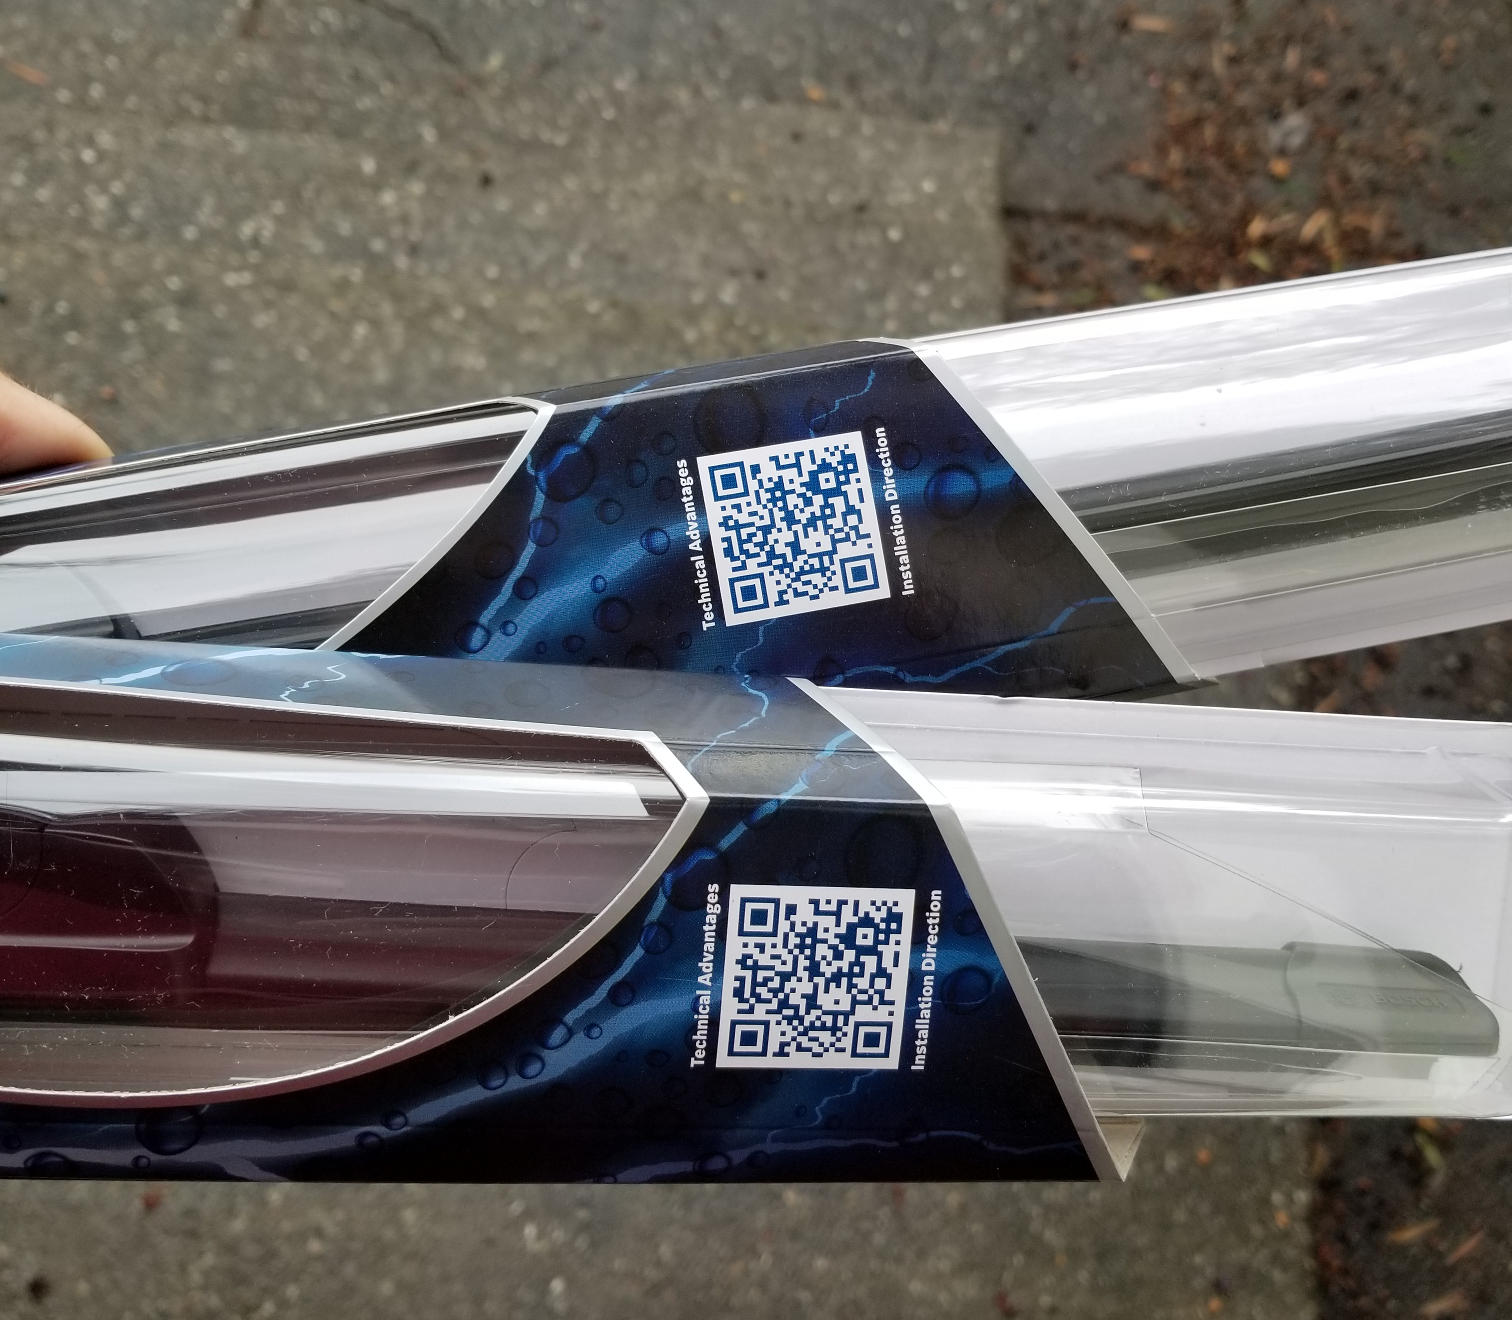QR_CODE: (681, 413, 903, 636), (714, 859, 924, 1087)
